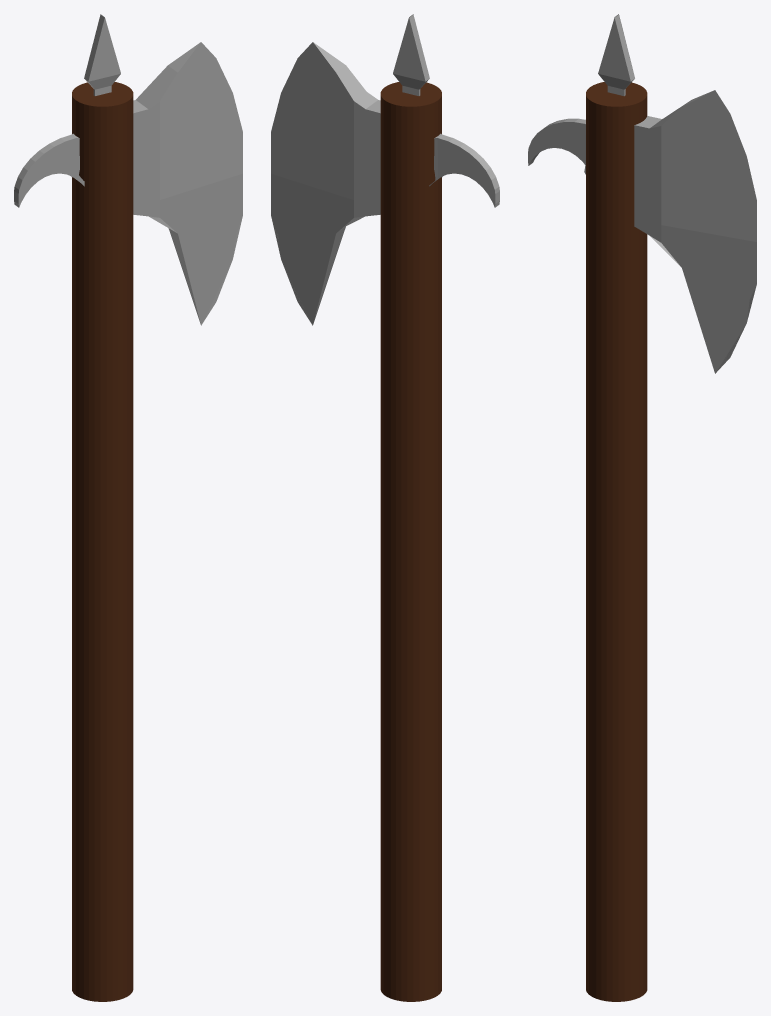
File: Halberd.obj
The picture shows the model from 3 angles, left to right: view 1: azimuth 30°, elevation 25°; view 2: azimuth 150°, elevation 25°; view 3: azimuth 330°, elevation 25°; orthographic projection.
Parts seen in each view (by area): view 1: Cylinder, Cube.001, Plane; view 2: Cylinder, Cube.001, Plane; view 3: Cylinder, Cube.001, Plane.
Part boxes in pixels (box(x1,y1,x2,y2)): Cylinder: box(72, 82, 133, 1001); Cube.001: box(14, 42, 242, 325); Plane: box(84, 14, 120, 95); Cylinder: box(380, 82, 441, 1001); Cube.001: box(271, 42, 499, 325); Plane: box(393, 14, 429, 95); Cylinder: box(586, 82, 647, 1001); Cube.001: box(528, 90, 756, 373); Plane: box(598, 14, 634, 96).
Bounding box in the file's own units: 1.61 × 6.61 × 0.3797.
